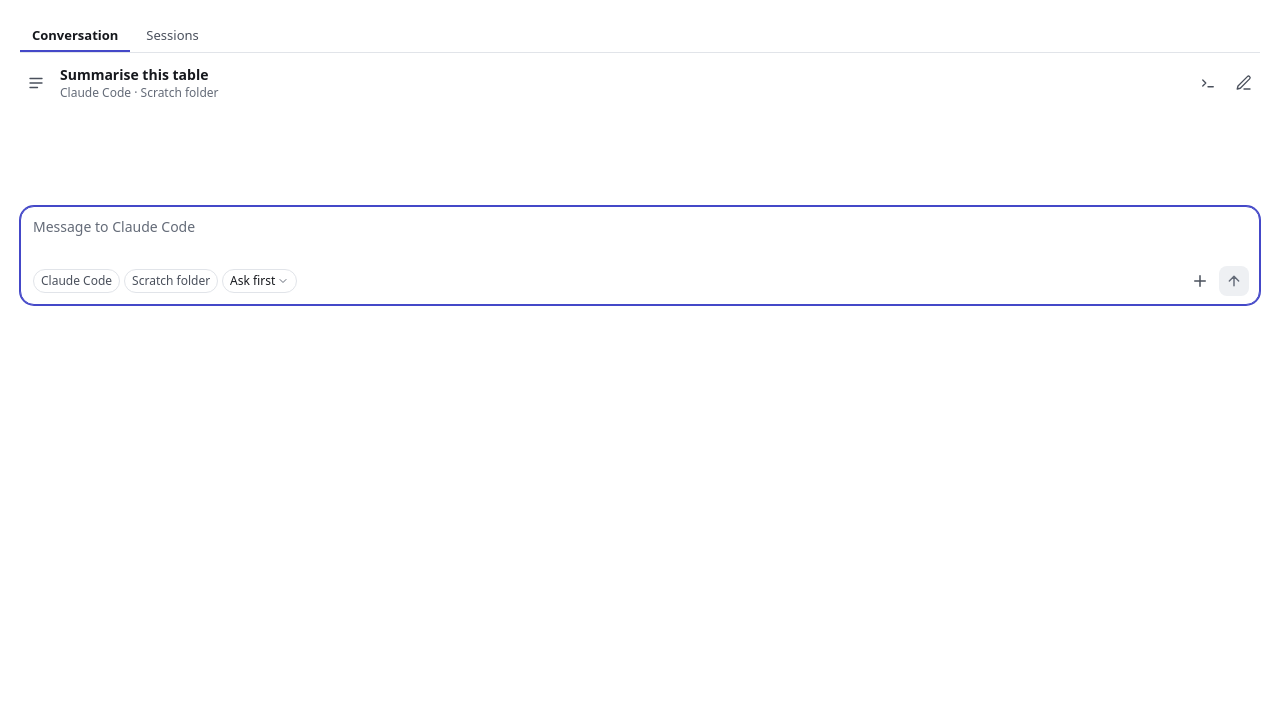
Test case: T598 the header and the conversation drawer › opens as a labelled modal dialog with the focus on its search
What coordinates should you click on to do the following:
click the button named "Show conversations"
I would click on:
 (36, 83)
Its box is [20,67,52,99].
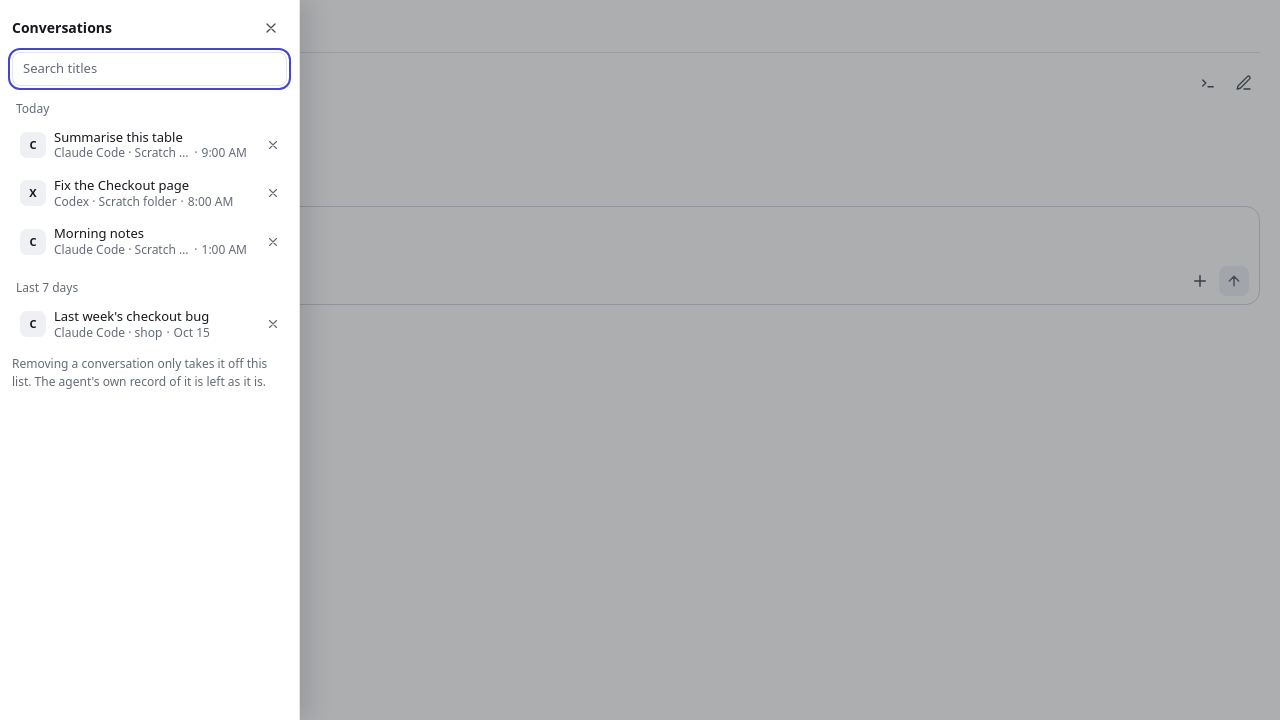
Now the button named "Show conversations" is expanded, box [20,67,52,99]
